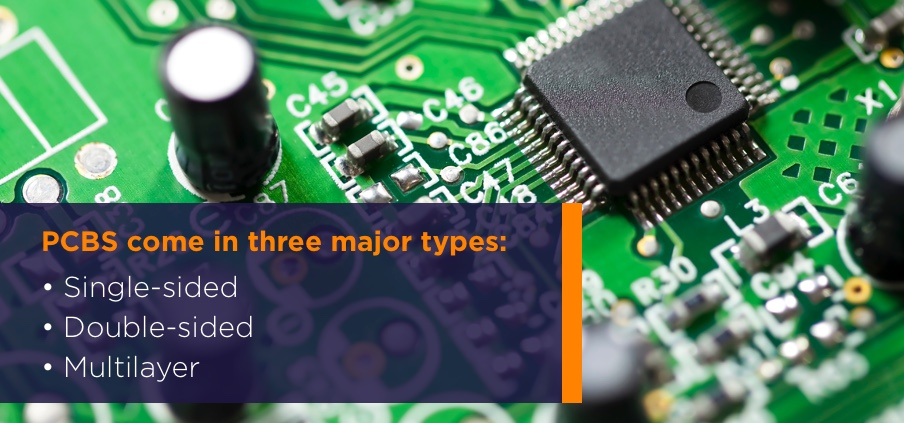capacitor: (159, 24, 281, 189)
